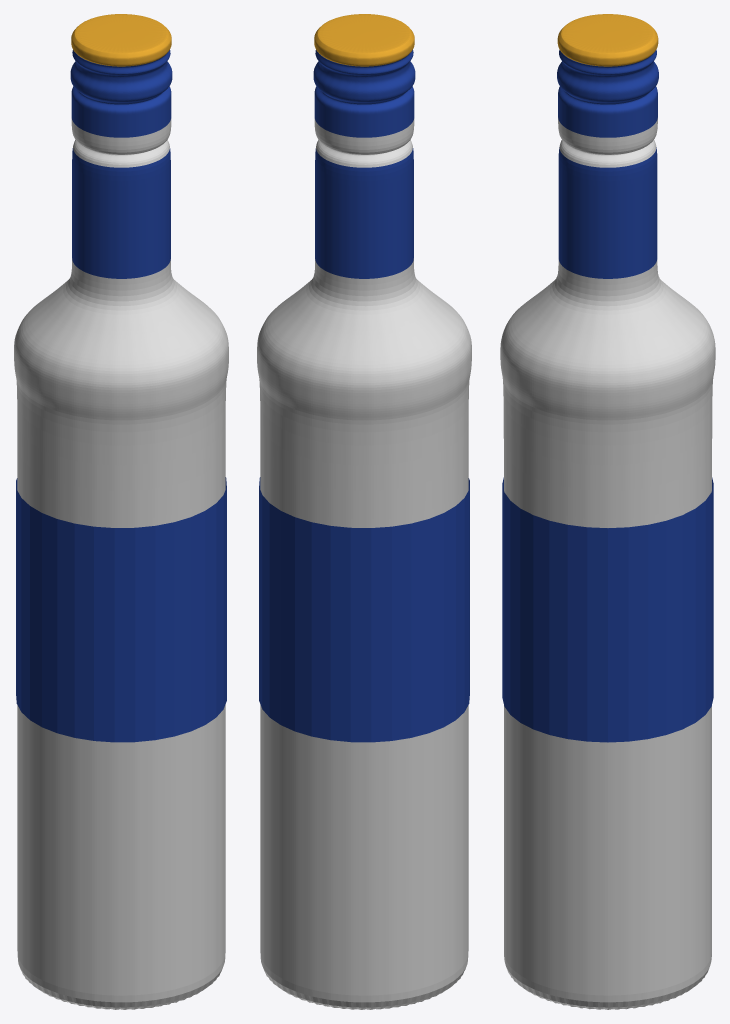
The model's file is vodka 1.fbx.
3 views of the same model, side by side, from view 1: azimuth 30°, elevation 25°; view 2: azimuth 150°, elevation 25°; view 3: azimuth 270°, elevation 25° (orthographic).
Parts seen in each view (by area): view 1: Circle, Circle.001; view 2: Circle, Circle.001; view 3: Circle, Circle.001.
Part boxes in pixels (x1=…): Circle: x1=14, y1=14, x2=228, y2=1009; Circle.001: x1=16, y1=477, x2=226, y2=742; Circle: x1=257, y1=14, x2=471, y2=1009; Circle.001: x1=259, y1=477, x2=469, y2=742; Circle: x1=500, y1=14, x2=715, y2=1009; Circle.001: x1=502, y1=477, x2=713, y2=742.
Size of the model in its own units: 100 by 487 by 100.
